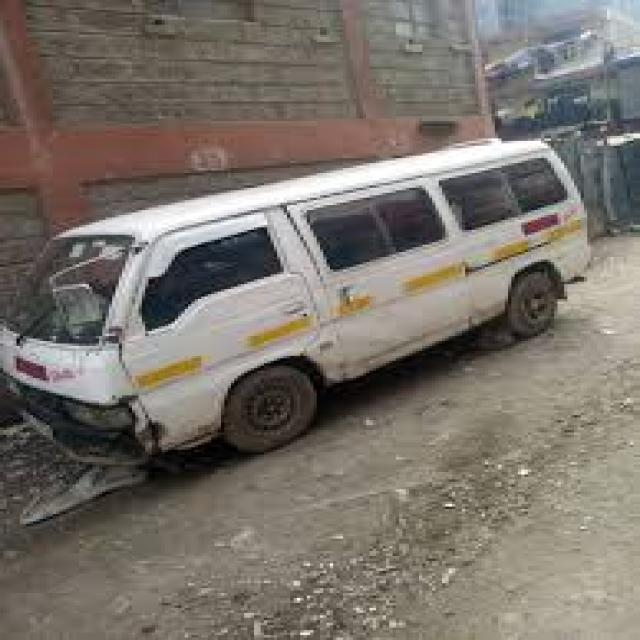matatu: (0, 112, 618, 501)
